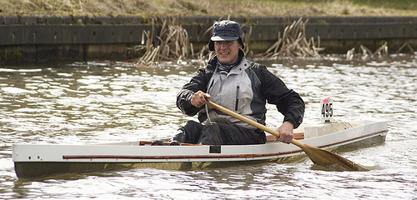person: (173, 20, 306, 147)
